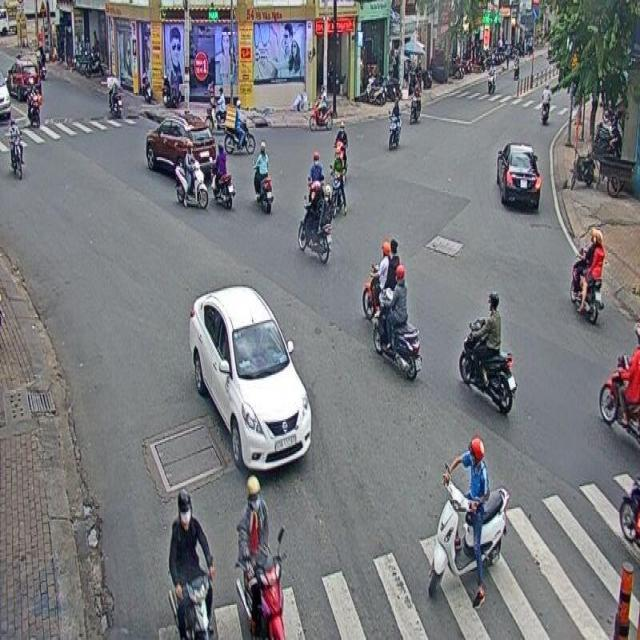car: (189, 285, 312, 472), (145, 114, 216, 172), (497, 144, 541, 210)
motorcycle: (427, 434, 509, 598), (236, 475, 285, 640), (458, 290, 516, 414), (168, 487, 215, 640), (373, 265, 422, 381), (598, 331, 640, 426), (570, 227, 605, 323), (298, 182, 332, 264), (362, 240, 396, 318), (174, 140, 208, 209), (224, 99, 255, 155), (252, 140, 274, 215), (212, 140, 235, 209), (330, 148, 347, 216)
